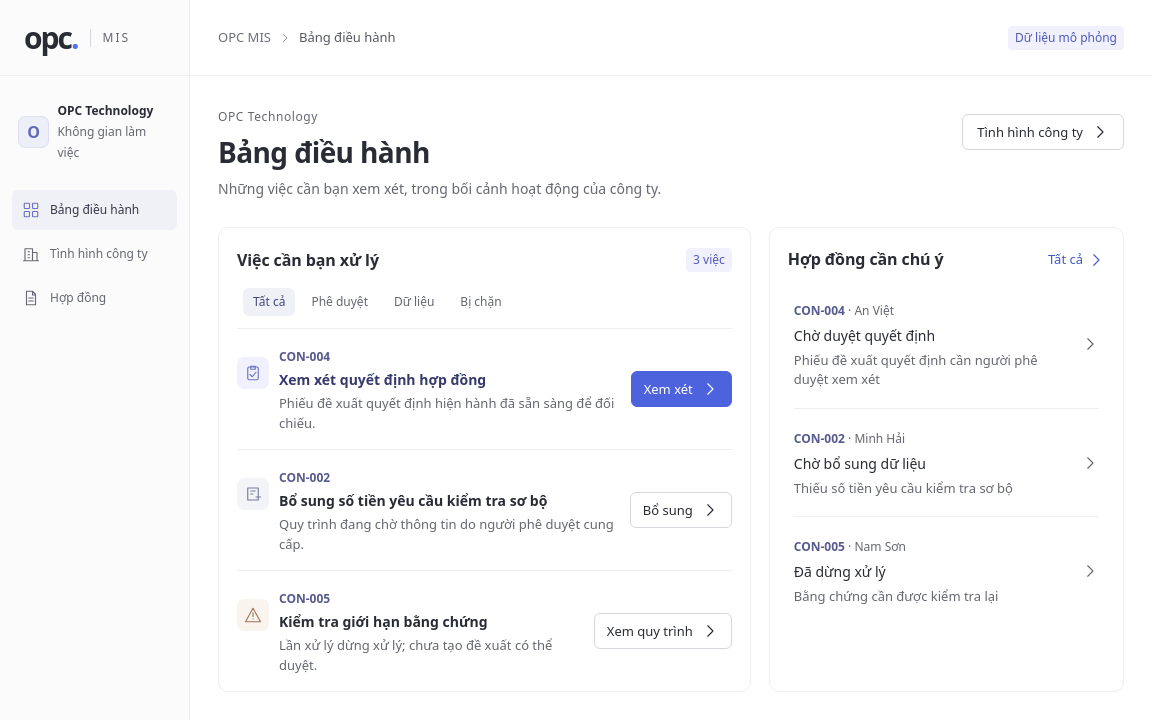
Test: isolated executive preview › renders action-first home and filters actions without financial filtering
The image size is (1152, 720).
Click the button "Phê duyệt".
click(340, 302)  # box [301,288,378,316]
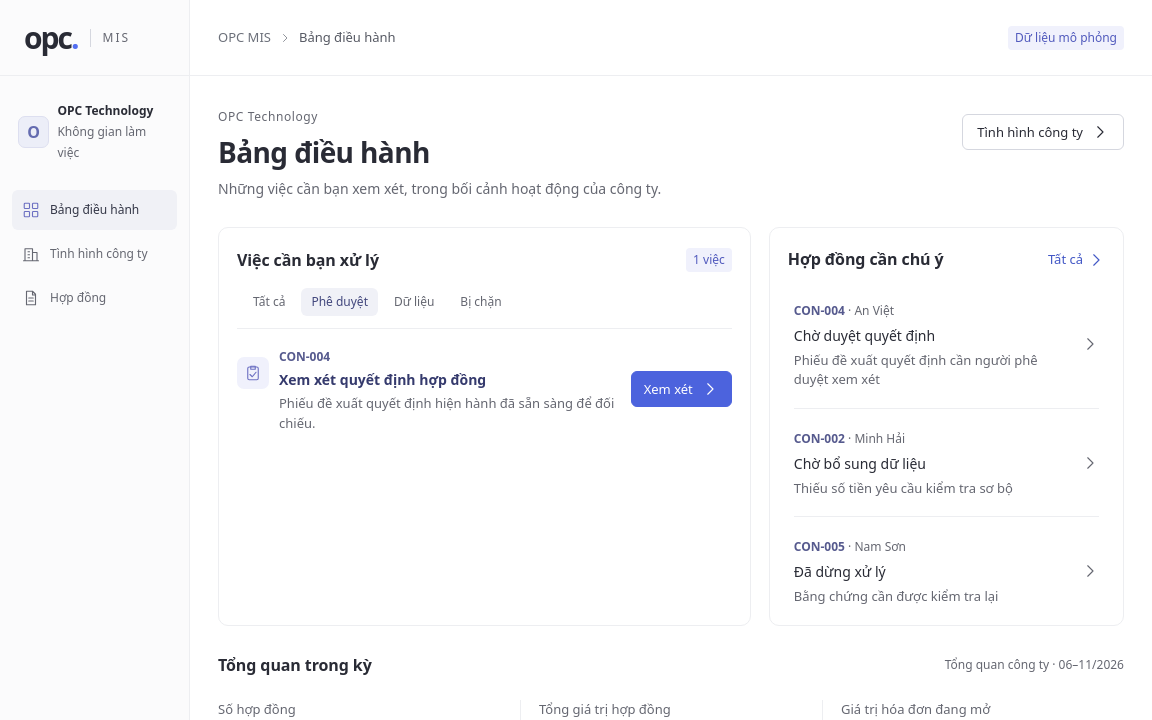
Expected: the heading "Xem xét quyết định hợp đồng" is shown, [279,370,486,389]
Result: the heading "Bổ sung số tiền yêu cầu kiểm tra sơ bộ" is gone
